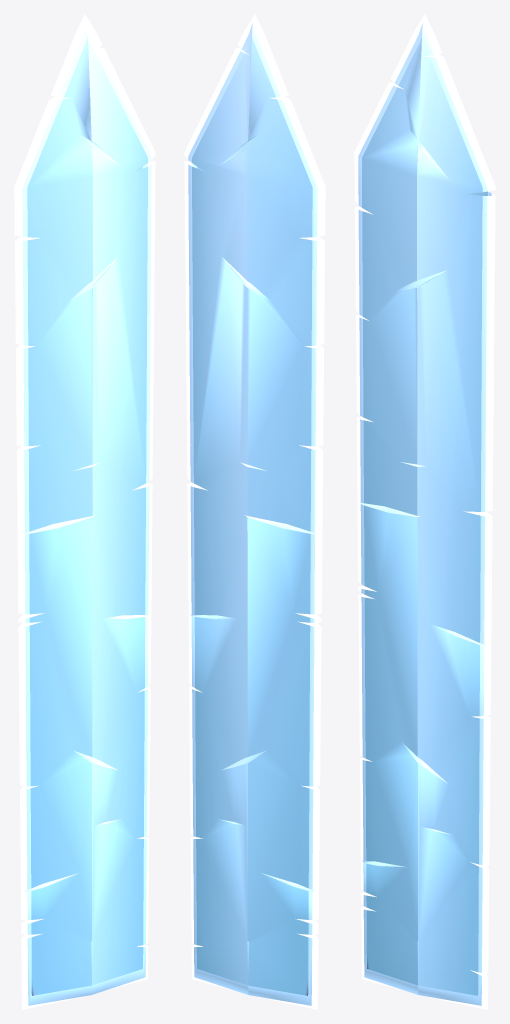
Rendered from steel_blade_scratched_048.glb.
The picture shows the model from 3 angles, left to right: view 1: azimuth 30°, elevation 25°; view 2: azimuth 150°, elevation 25°; view 3: azimuth 330°, elevation 25°; orthographic projection.
Parts seen in each view (by area): view 1: steel_blade_scratched.048; view 2: steel_blade_scratched.048; view 3: steel_blade_scratched.048.
Boxes of the visible parts, x1,y1,x2,y2 form: steel_blade_scratched.048: (14, 14, 155, 1009); steel_blade_scratched.048: (184, 14, 325, 1009); steel_blade_scratched.048: (354, 14, 495, 1009).
Size of the model in its own units: 1.71 by 11.4 by 0.3369.
Materials: 1 (1 with a texture image).
